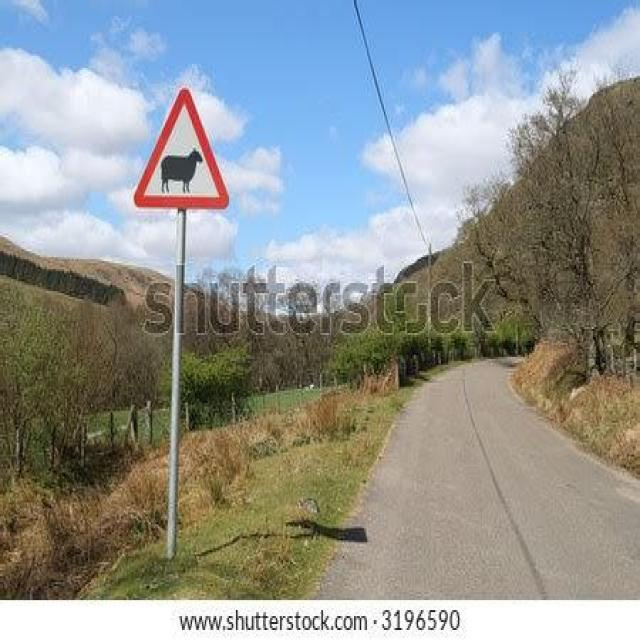cattle: (130, 80, 237, 252)
